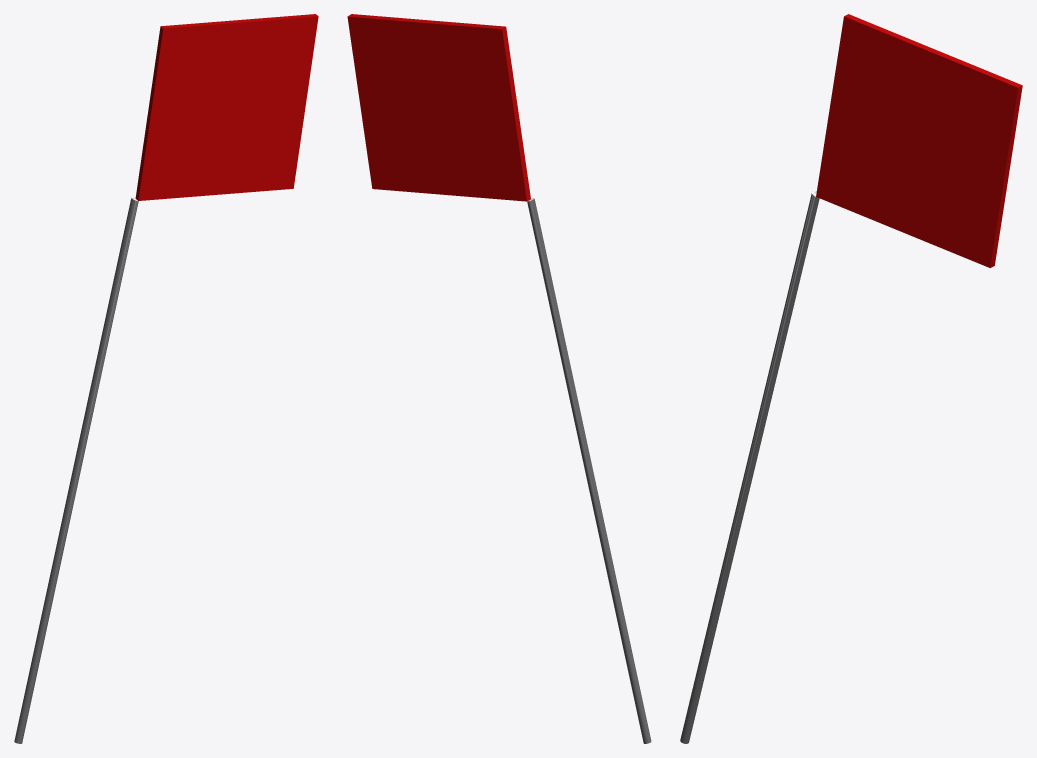
File: red_flag.dae
3 renders of one model, left to right at view 1: azimuth 30°, elevation 25°; view 2: azimuth 150°, elevation 25°; view 3: azimuth 330°, elevation 25°, orthographic. The views are drawn at different scales.
Parts seen in each view (by area): view 1: SketchUp (×2); view 2: SketchUp (×2); view 3: SketchUp (×2).
Boxes of the visible parts, bbox=[...] form: SketchUp (×2): bbox=[14, 14, 318, 743]; SketchUp (×2): bbox=[347, 14, 651, 743]; SketchUp (×2): bbox=[680, 14, 1022, 743].
Size of the model in its own units: 13.54 by 0.3164 by 29.16.
